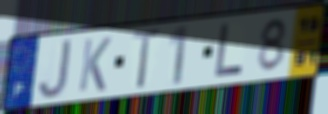1: (167, 23, 189, 89)
8: (255, 16, 287, 74)
J: (36, 36, 74, 101)
K: (76, 35, 114, 94)
L: (213, 22, 246, 80)
T: (129, 27, 163, 91)
